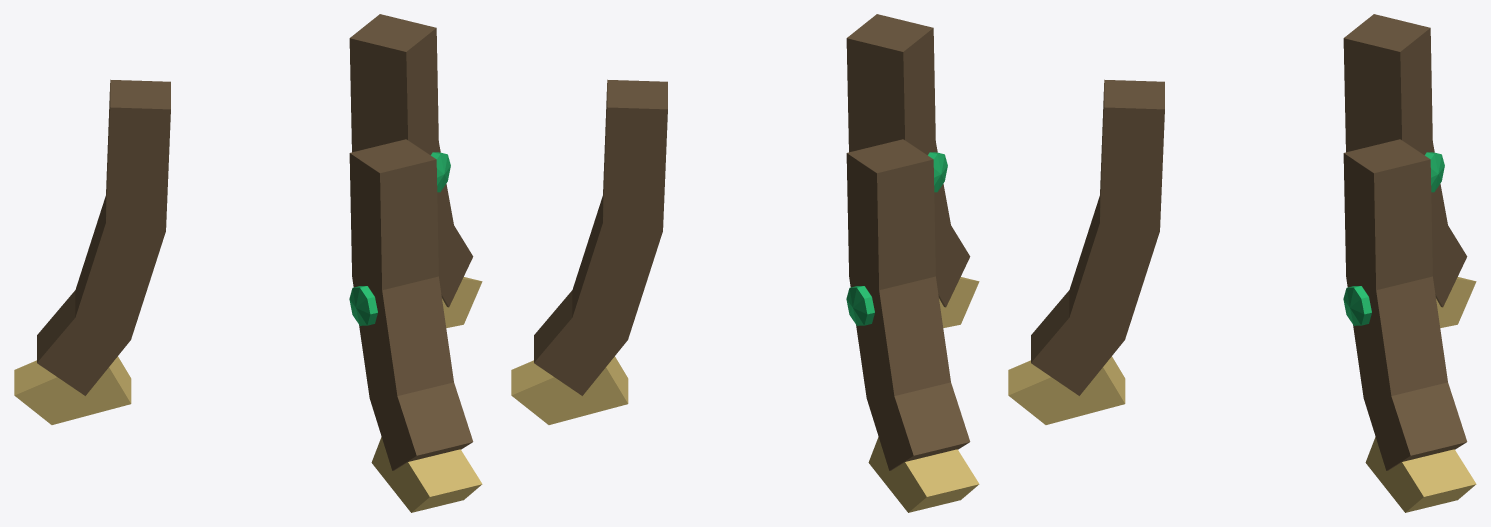
Rendered from three_beast.obj.
The picture shows the model from 3 angles, left to right: view 1: azimuth 30°, elevation 25°; view 2: azimuth 150°, elevation 25°; view 3: azimuth 270°, elevation 25°; orthographic projection.
Visible parts, largest first — view 1: beast_leg_02_beast_shin_edge, beast_leg_01_beast_shin, beast_leg_02_beast_shin, beast_leg_00_beast_shin_edge, beast_leg_00_beast_shin, beast_leg_01_beast_shin_edge, beast_leg_01_beast_claw, beast_leg_02_beast_claw_edge, beast_leg_02_beast_claw, beast_leg_01_beast_claw_edge, beast_leg_00_beast_claw, beast_leg_02_beast_knee; view 2: beast_leg_01_beast_shin_edge, beast_leg_00_beast_shin, beast_leg_01_beast_shin, beast_leg_02_beast_shin_edge, beast_leg_02_beast_shin, beast_leg_00_beast_shin_edge, beast_leg_00_beast_claw, beast_leg_01_beast_claw_edge, beast_leg_01_beast_claw, beast_leg_00_beast_claw_edge, beast_leg_02_beast_claw, beast_leg_01_beast_knee; view 3: beast_leg_00_beast_shin_edge, beast_leg_02_beast_shin, beast_leg_00_beast_shin, beast_leg_01_beast_shin_edge, beast_leg_01_beast_shin, beast_leg_02_beast_shin_edge, beast_leg_02_beast_claw, beast_leg_00_beast_claw_edge, beast_leg_00_beast_claw, beast_leg_02_beast_claw_edge, beast_leg_01_beast_claw, beast_leg_00_beast_knee.
Boxes of the visible parts, x1,y1,x2,y2 form: beast_leg_02_beast_shin_edge: [350, 139, 473, 470]; beast_leg_01_beast_shin: [37, 107, 170, 395]; beast_leg_02_beast_shin: [349, 153, 416, 470]; beast_leg_00_beast_shin_edge: [349, 14, 448, 307]; beast_leg_00_beast_shin: [406, 28, 473, 306]; beast_leg_01_beast_shin_edge: [37, 79, 170, 362]; beast_leg_01_beast_claw: [14, 367, 130, 424]; beast_leg_02_beast_claw_edge: [408, 449, 482, 512]; beast_leg_02_beast_claw: [371, 437, 429, 512]; beast_leg_01_beast_claw_edge: [14, 356, 131, 403]; beast_leg_00_beast_claw: [442, 279, 482, 327]; beast_leg_02_beast_knee: [349, 286, 377, 325]; beast_leg_01_beast_shin_edge: [847, 139, 970, 470]; beast_leg_00_beast_shin: [534, 107, 667, 395]; beast_leg_01_beast_shin: [846, 153, 913, 470]; beast_leg_02_beast_shin_edge: [846, 14, 945, 307]; beast_leg_02_beast_shin: [903, 28, 970, 306]; beast_leg_00_beast_shin_edge: [534, 79, 667, 362]; beast_leg_00_beast_claw: [511, 367, 627, 424]; beast_leg_01_beast_claw_edge: [905, 449, 979, 512]; beast_leg_01_beast_claw: [868, 437, 926, 512]; beast_leg_00_beast_claw_edge: [511, 356, 628, 403]; beast_leg_02_beast_claw: [939, 279, 979, 327]; beast_leg_01_beast_knee: [846, 286, 874, 325]; beast_leg_00_beast_shin_edge: [1344, 139, 1467, 470]; beast_leg_02_beast_shin: [1031, 107, 1164, 395]; beast_leg_00_beast_shin: [1343, 153, 1410, 470]; beast_leg_01_beast_shin_edge: [1343, 14, 1442, 307]; beast_leg_01_beast_shin: [1400, 28, 1467, 306]; beast_leg_02_beast_shin_edge: [1031, 79, 1164, 362]; beast_leg_02_beast_claw: [1008, 367, 1124, 424]; beast_leg_00_beast_claw_edge: [1402, 449, 1476, 512]; beast_leg_00_beast_claw: [1365, 437, 1423, 512]; beast_leg_02_beast_claw_edge: [1008, 356, 1125, 403]; beast_leg_01_beast_claw: [1436, 279, 1476, 327]; beast_leg_00_beast_knee: [1343, 286, 1371, 325].
Size of the model in its own units: 1.16 by 0.7523 by 1.
